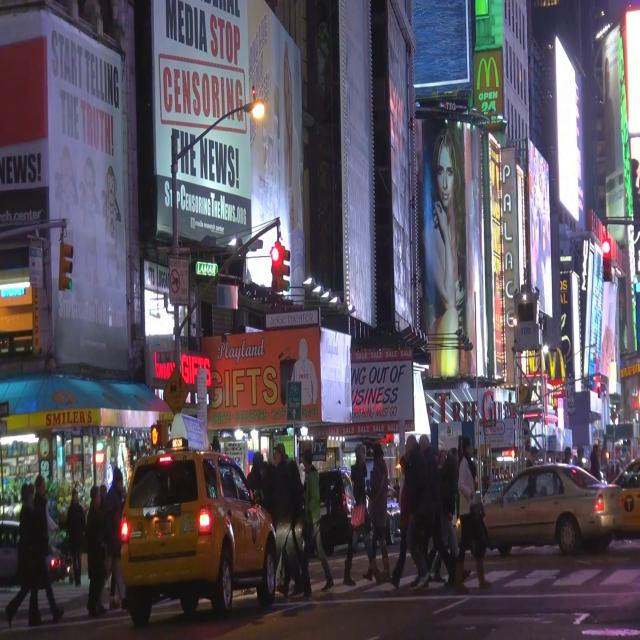body: (423, 123, 491, 388), (53, 144, 124, 288), (279, 31, 306, 296), (342, 441, 387, 588), (4, 482, 46, 628), (25, 472, 65, 622), (456, 433, 493, 590), (402, 432, 438, 592), (96, 465, 133, 615), (273, 441, 306, 597), (300, 448, 334, 594), (361, 440, 394, 586), (417, 431, 448, 585), (390, 454, 420, 587), (528, 149, 550, 312), (86, 484, 108, 619), (64, 486, 88, 588), (600, 54, 618, 177), (600, 304, 616, 382), (44, 491, 60, 545), (246, 450, 264, 495), (362, 476, 374, 528), (429, 551, 446, 587), (589, 443, 602, 483), (110, 572, 120, 608), (614, 463, 622, 502), (526, 445, 538, 468), (495, 466, 514, 480), (615, 447, 631, 463), (574, 444, 584, 469), (562, 446, 573, 464), (393, 477, 400, 503), (99, 484, 108, 504), (438, 446, 447, 464), (608, 464, 616, 484), (246, 466, 254, 483), (262, 458, 269, 474)
